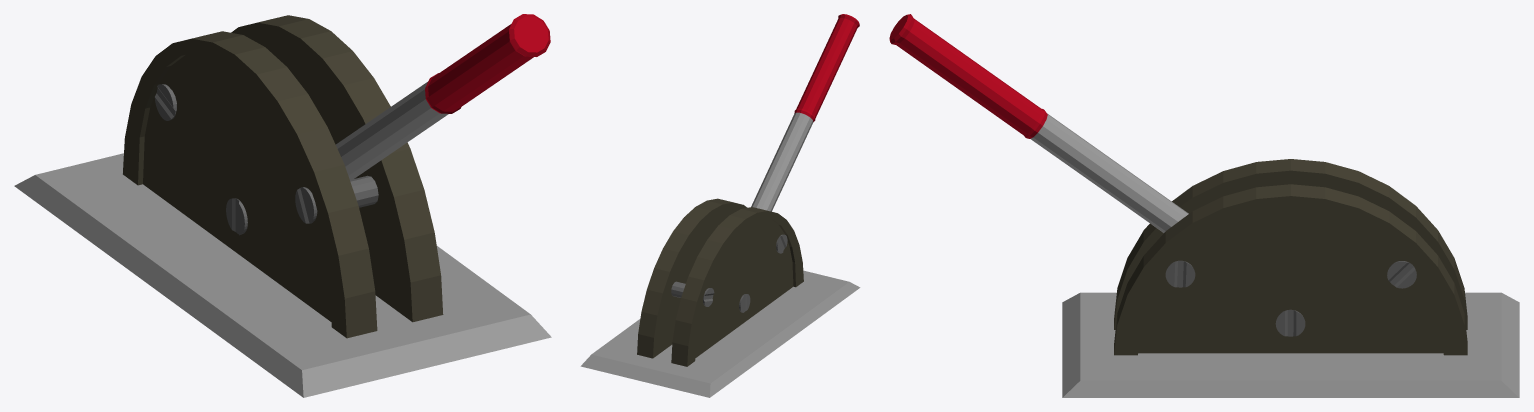
The model's file is props.fbx_lever.fbx.
3 views of the same model, side by side, from view 1: azimuth 30°, elevation 25°; view 2: azimuth 150°, elevation 25°; view 3: azimuth 270°, elevation 25° (orthographic). The views are drawn at different scales.
Visible parts, largest first — view 1: Circle.002, Plane.001, Cylinder.002, Circle.003, Circle.008, Circle.006; view 2: Circle.002, Plane.001, Cylinder.002, Circle.008; view 3: Circle.002, Plane.001, Cylinder.002, Circle.007, Circle.003, Circle.008.
Part boxes in pixels (x1=…): Circle.002: x1=123, y1=15, x2=443, y2=338; Plane.001: x1=14, y1=153, x2=551, y2=397; Cylinder.002: x1=336, y1=14, x2=550, y2=180; Circle.003: x1=295, y1=175, x2=378, y2=223; Circle.008: x1=154, y1=84, x2=176, y2=120; Circle.006: x1=226, y1=198, x2=247, y2=235; Circle.002: x1=637, y1=198, x2=803, y2=366; Plane.001: x1=580, y1=270, x2=860, y2=397; Cylinder.002: x1=751, y1=14, x2=859, y2=211; Circle.008: x1=671, y1=281, x2=714, y2=306; Circle.002: x1=1114, y1=159, x2=1467, y2=355; Plane.001: x1=1062, y1=292, x2=1519, y2=397; Cylinder.002: x1=889, y1=14, x2=1188, y2=232; Circle.007: x1=1275, y1=309, x2=1305, y2=336; Circle.003: x1=1165, y1=260, x2=1195, y2=287; Circle.008: x1=1387, y1=261, x2=1416, y2=288.
Bounding box in the file's own units: 0.4293 × 0.6992 × 1.2.
